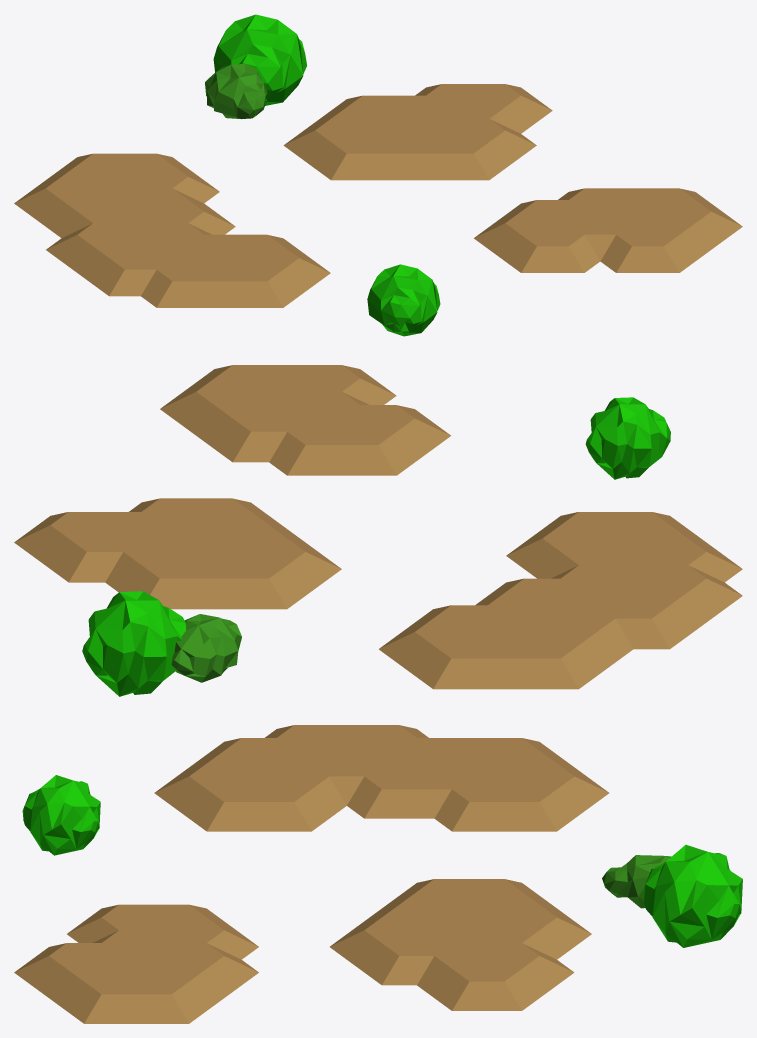
Rendered from wiese_objekte.fbx.
3 renders of one model, top to bottom at view 1: azimuth 30°, elevation 25°; view 2: azimuth 150°, elevation 25°; view 3: azimuth 270°, elevation 25°, orthographic. The views are drawn at different scales.
Parts seen in each view (by area): view 1: Cylinder.020, Sphere.047, Sphere.046, Sphere.051; view 2: Cylinder.020, Sphere.047, Sphere.046, Sphere.051; view 3: Cylinder.020, Sphere.047, Sphere.046, Sphere.051.
Part boxes in pixels (bbox=[...]): Cylinder.020: bbox=[14, 84, 742, 307]; Sphere.047: bbox=[213, 14, 306, 105]; Sphere.046: bbox=[367, 264, 440, 336]; Sphere.051: bbox=[205, 64, 267, 119]; Cylinder.020: bbox=[14, 365, 742, 689]; Sphere.047: bbox=[82, 591, 186, 696]; Sphere.046: bbox=[585, 397, 670, 479]; Sphere.051: bbox=[171, 614, 241, 682]; Cylinder.020: bbox=[14, 725, 609, 1023]; Sphere.047: bbox=[643, 844, 742, 947]; Sphere.046: bbox=[22, 775, 100, 855]; Sphere.051: bbox=[602, 855, 671, 908].
Size of the model in its own units: 119 by 17.66 by 124.
